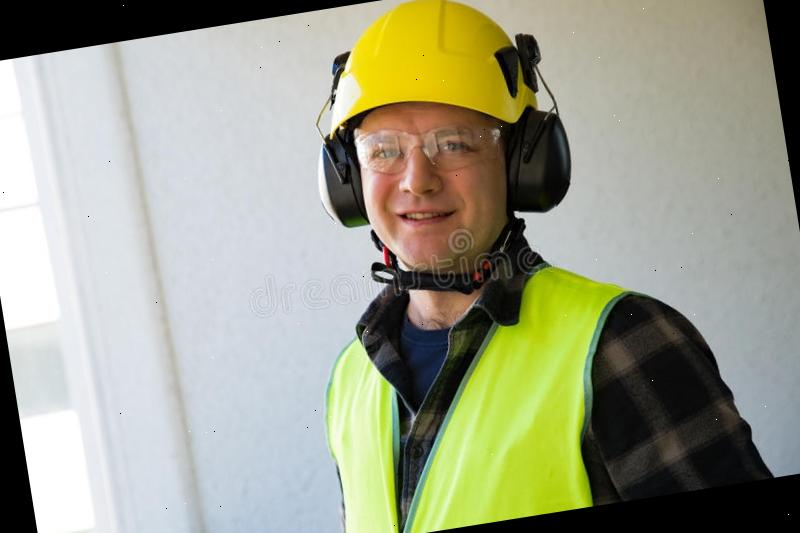helmet: (306, 0, 547, 151)
wear: (297, 250, 773, 533)
